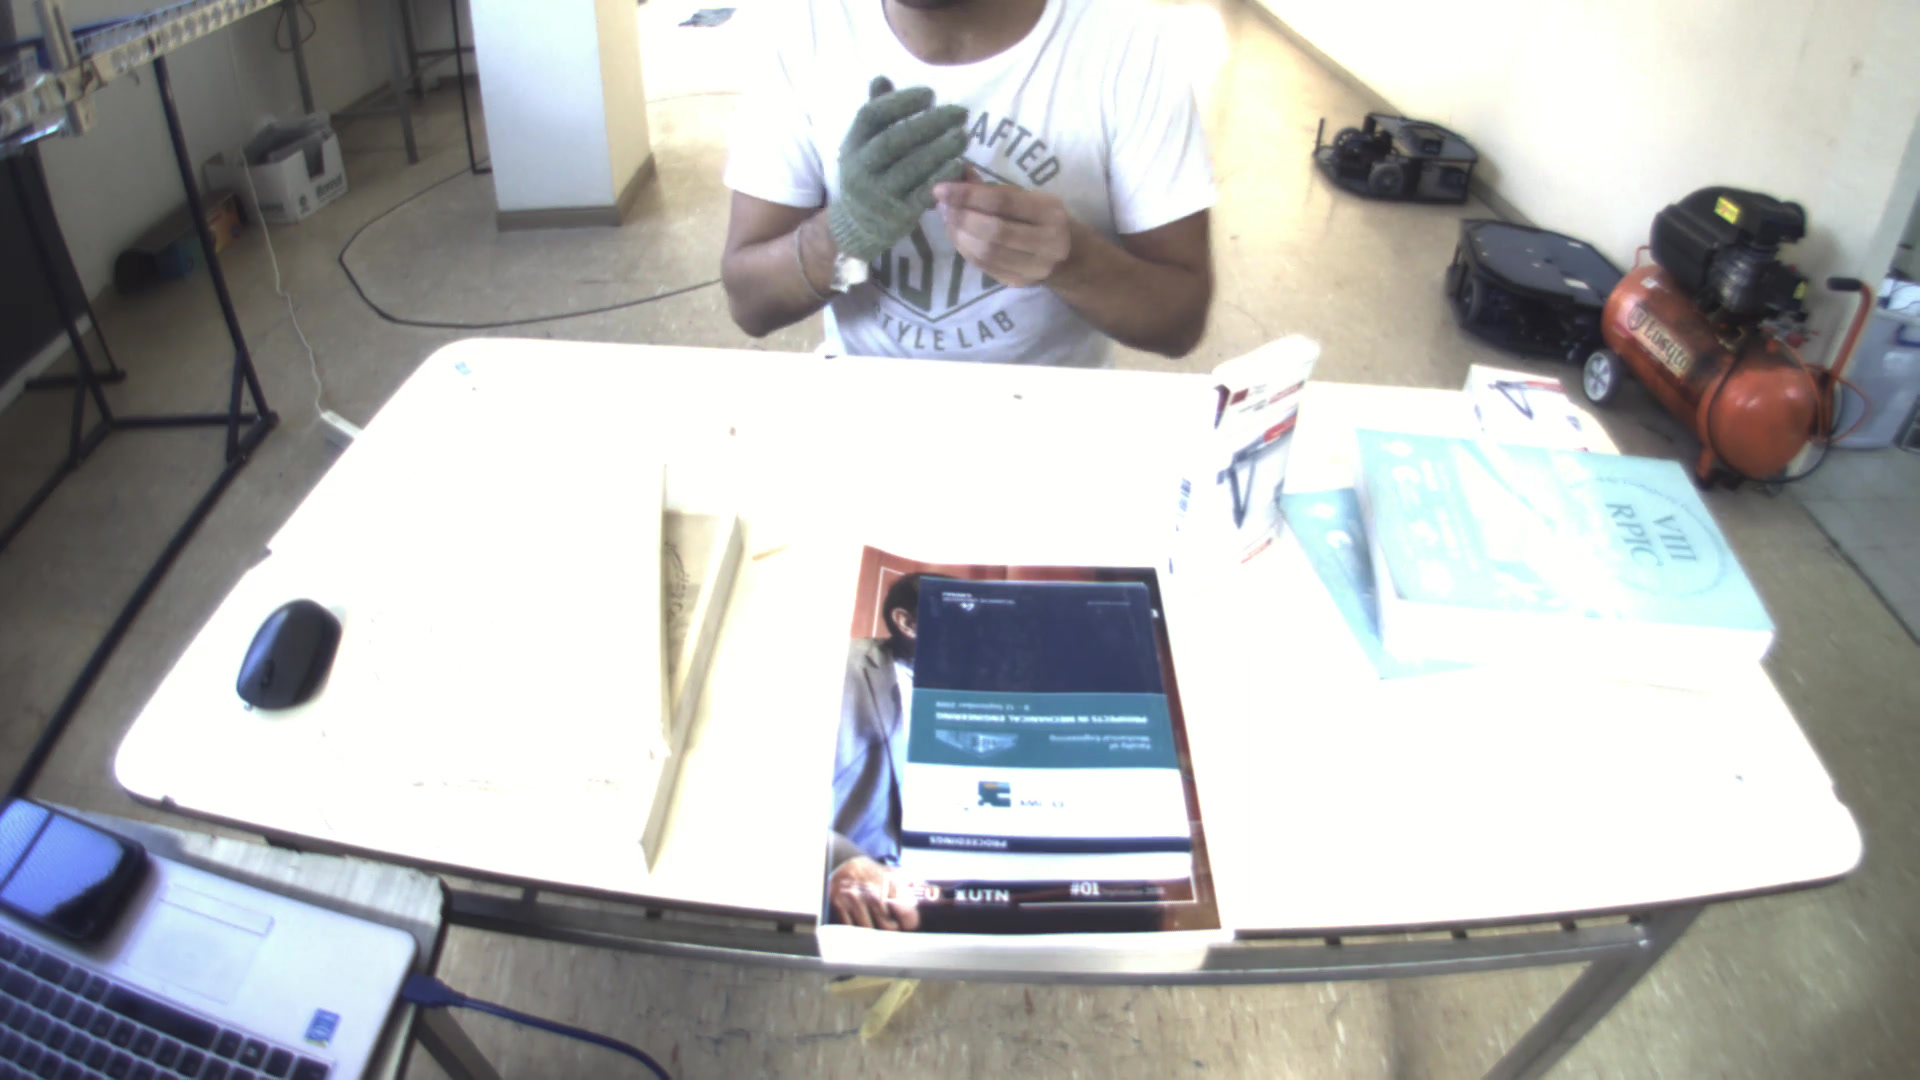hand: (820, 71, 977, 270), (932, 164, 1088, 286)
